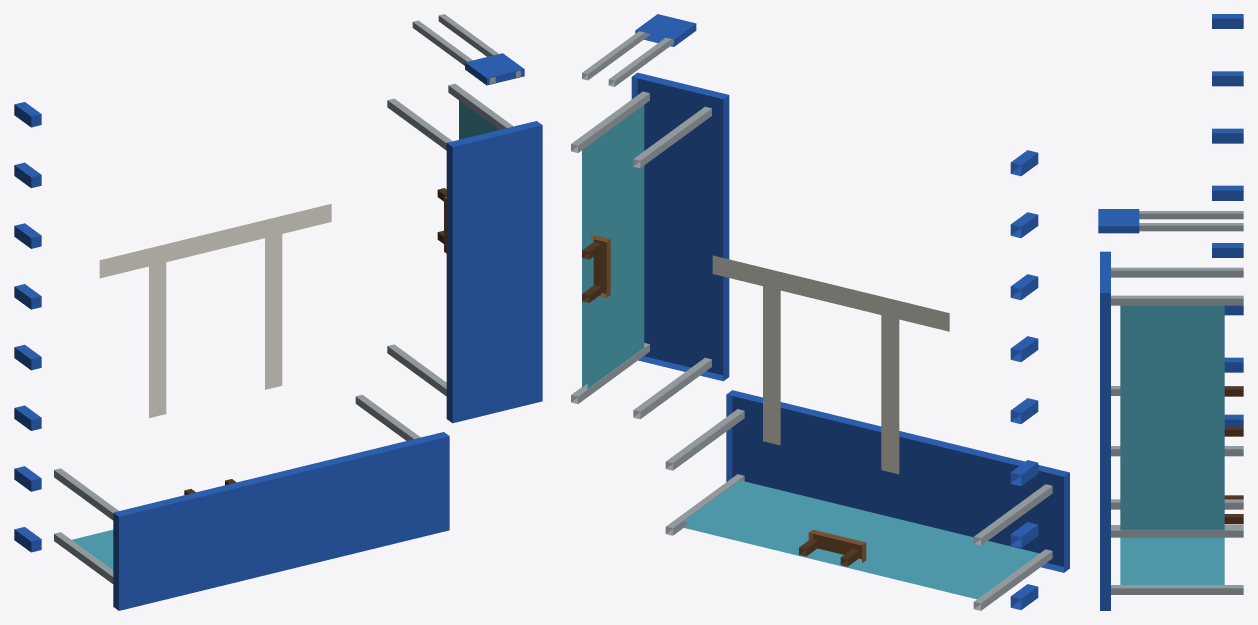
3 renders of one model, left to right at view 1: azimuth 30°, elevation 25°; view 2: azimuth 150°, elevation 25°; view 3: azimuth 270°, elevation 25°, orthographic. The views are drawn at different scales.
Parts seen in each view (by area): view 1: stop_bus_bay_default; view 2: stop_bus_bay_default; view 3: stop_bus_bay_default.
Part boxes in pixels (x1=…): stop_bus_bay_default: x1=14, y1=14, x2=542, y2=610; stop_bus_bay_default: x1=571, y1=14, x2=1069, y2=610; stop_bus_bay_default: x1=1098, y1=14, x2=1243, y2=610.
Bounding box in the file's own units: 15.58 × 15.08 × 4.6.
